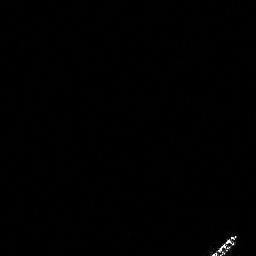ship: (206, 231, 239, 256)
